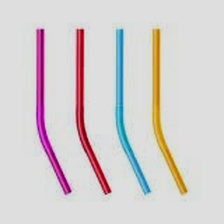drinking_straw: (144, 25, 193, 200), (27, 27, 75, 196), (69, 26, 114, 198), (109, 27, 153, 199)
